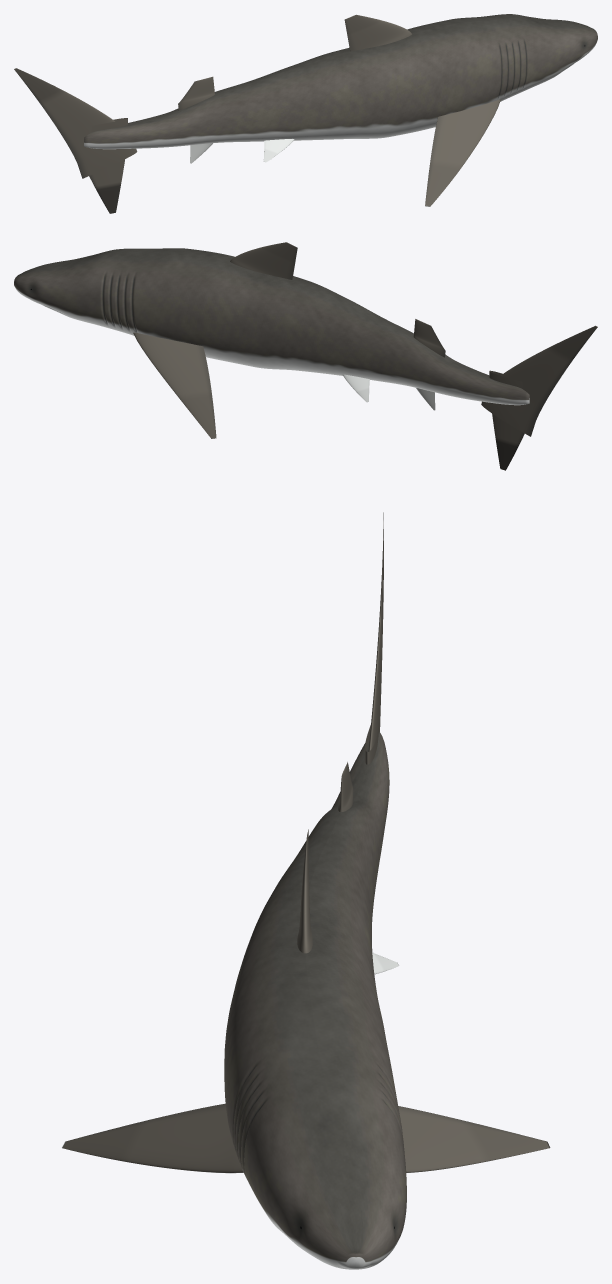
File: silky_shark.glb
3 renders of one model, top to bottom at view 1: azimuth 30°, elevation 25°; view 2: azimuth 150°, elevation 25°; view 3: azimuth 270°, elevation 25°, orthographic. The views are drawn at different scales.
Visible parts, largest first — view 1: silky_shark_Body, silky_shark_Fins; view 2: silky_shark_Body, silky_shark_Fins; view 3: silky_shark_Body, silky_shark_Fins.
Part boxes in pixels (bbox=[...]): silky_shark_Body: bbox=[84, 14, 597, 149]; silky_shark_Fins: bbox=[14, 14, 500, 213]; silky_shark_Body: bbox=[14, 248, 529, 405]; silky_shark_Fins: bbox=[133, 242, 597, 470]; silky_shark_Body: bbox=[224, 731, 406, 1269]; silky_shark_Fins: bbox=[62, 512, 550, 1173].
Bounding box in the file's own units: 2.5 × 0.6889 × 0.9203.
Materials: 3 (1 with a texture image).
